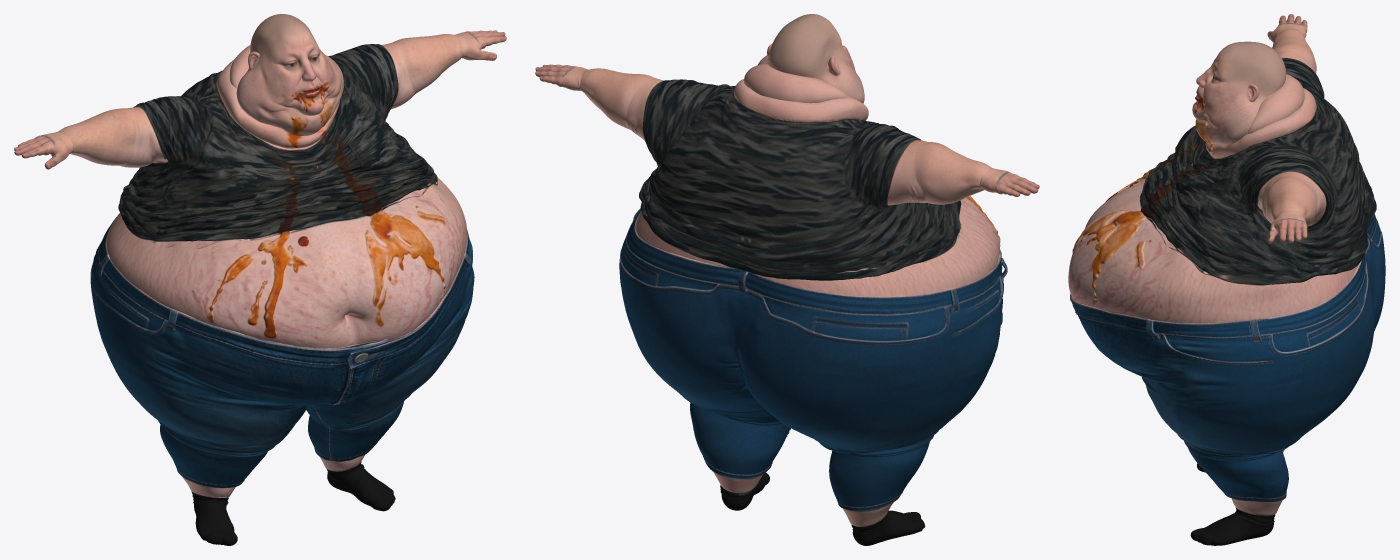
Rendered from gerda (3) (1).glb.
3 views of the same model, side by side, from view 1: azimuth 30°, elevation 25°; view 2: azimuth 150°, elevation 25°; view 3: azimuth 270°, elevation 25° (orthographic). The views are drawn at different scales.
Parts seen in each view (by area): view 1: mesh_0; view 2: mesh_0; view 3: mesh_0.
Boxes of the visible parts, bbox=[...] form: mesh_0: bbox=[14, 14, 506, 545]; mesh_0: bbox=[535, 14, 1039, 545]; mesh_0: bbox=[1068, 14, 1385, 545].
Size of the model in its own units: 1.9 by 1.82 by 1.13.
Materials: 1 (1 with a texture image).
